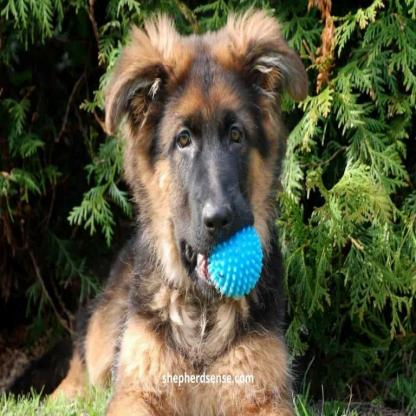german shepherd: (46, 14, 311, 416)
